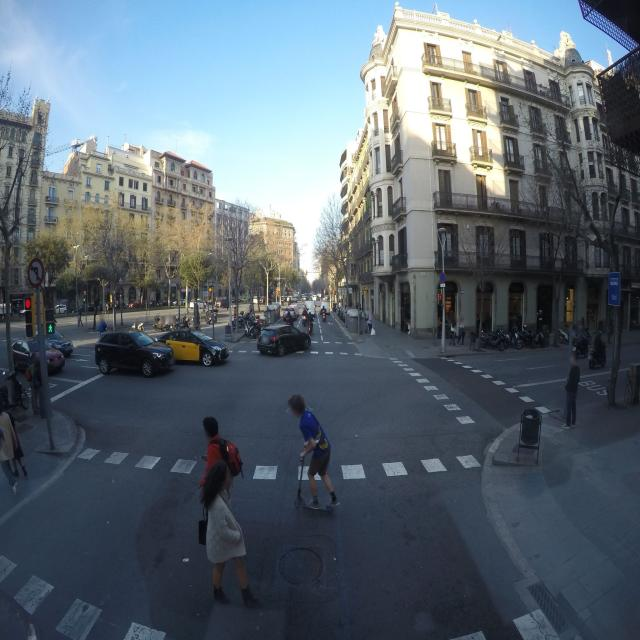forb_stopping: (439, 272, 445, 284)
